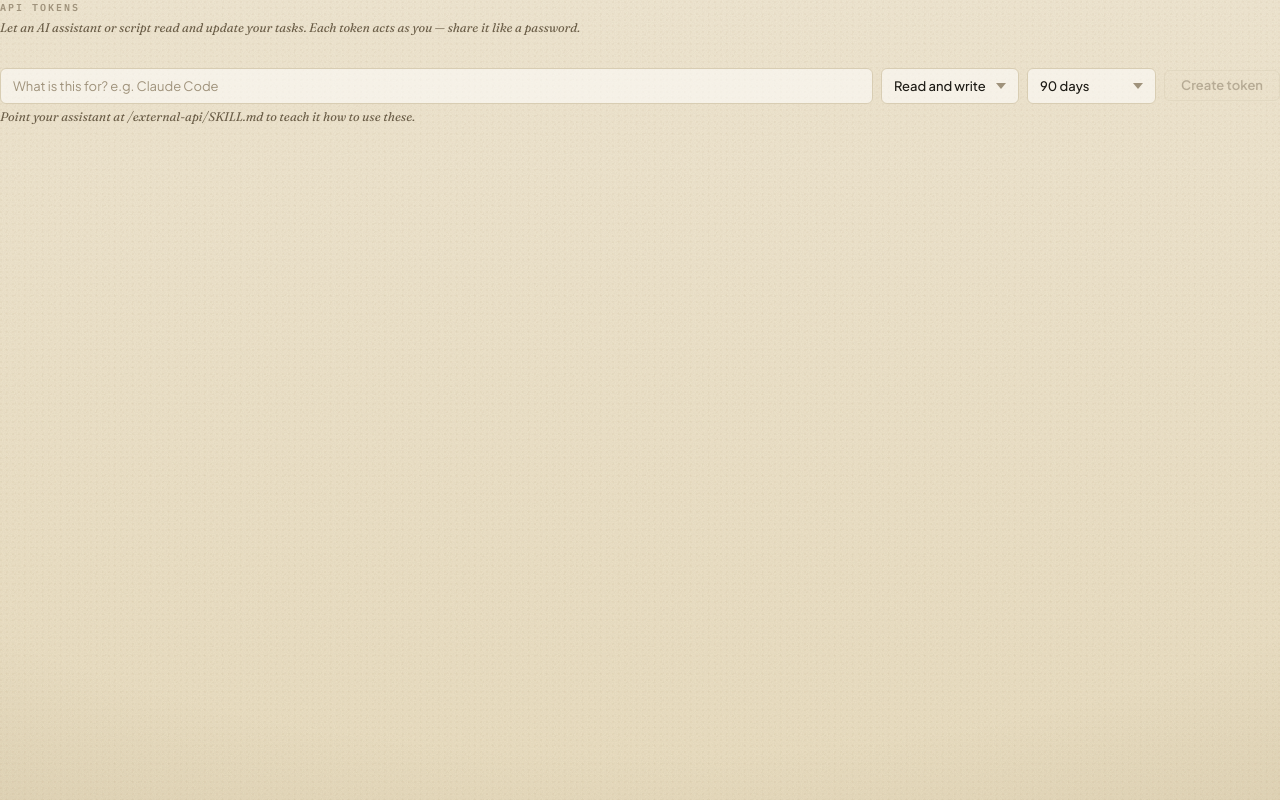
Test: ApiTokens › hides the secret again once dismissed, since it cannot be re-fetched
In the field with placeholder "What is this for? e.g. Claude Code": coordinates (437, 86) [0, 68, 873, 104], type "Scripts"
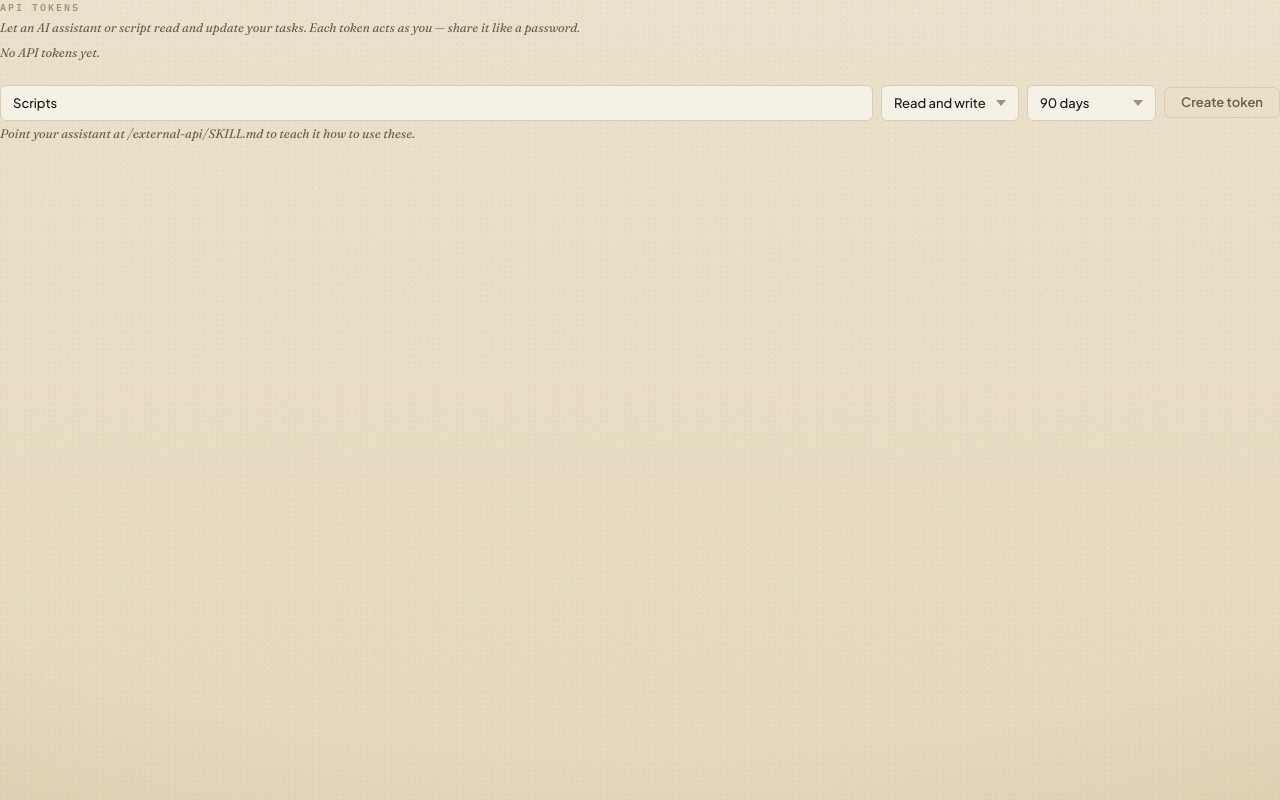
Click the button "Create token": coordinates (1222, 102) [1164, 87, 1279, 118]
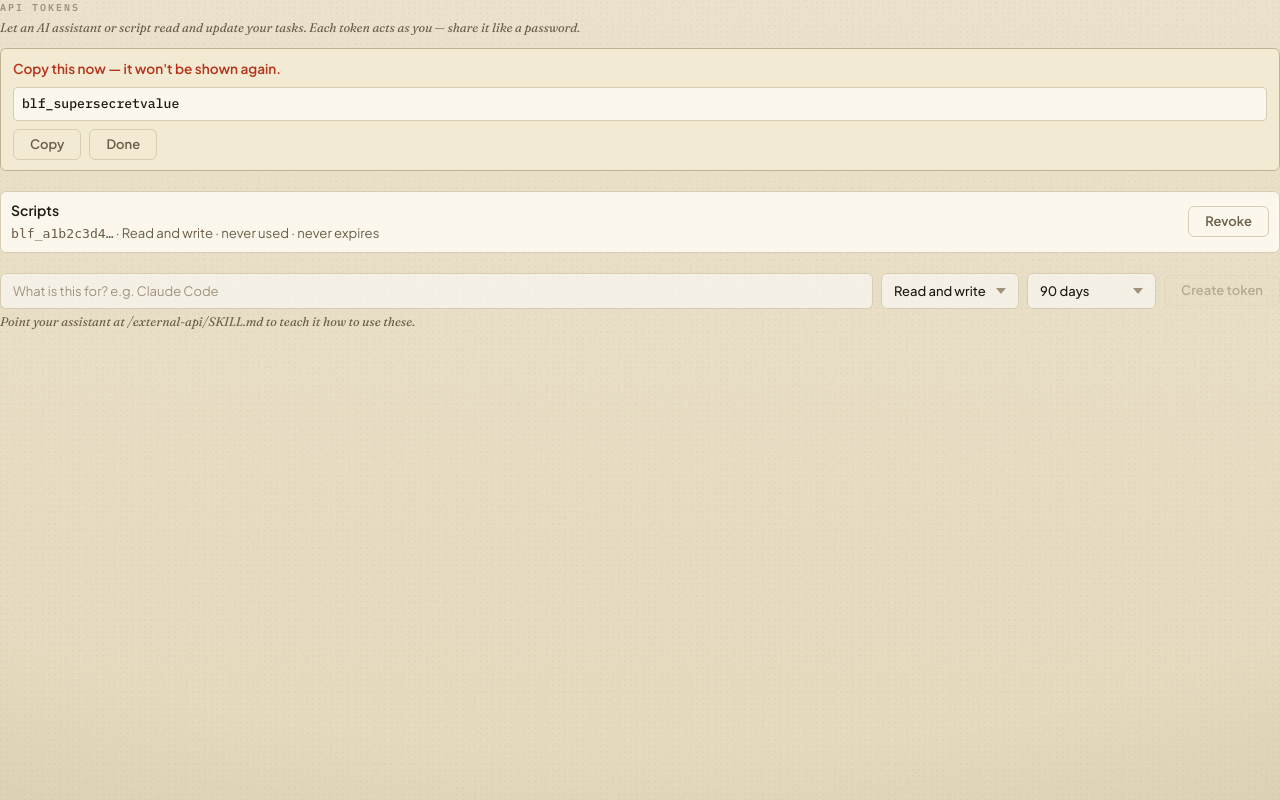
Click the button "Done": coordinates (123, 144) [89, 129, 157, 160]
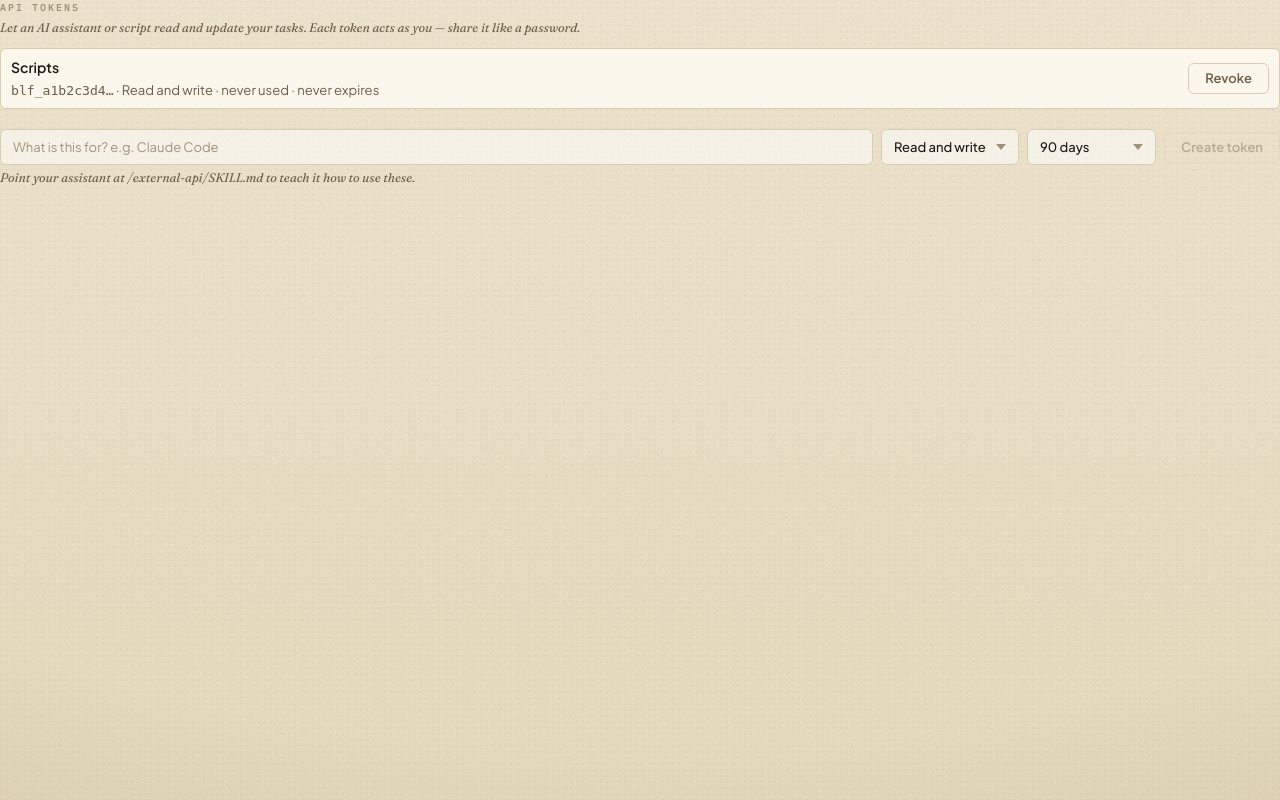
Expected: the text "blf_supersecretvalue" is gone
